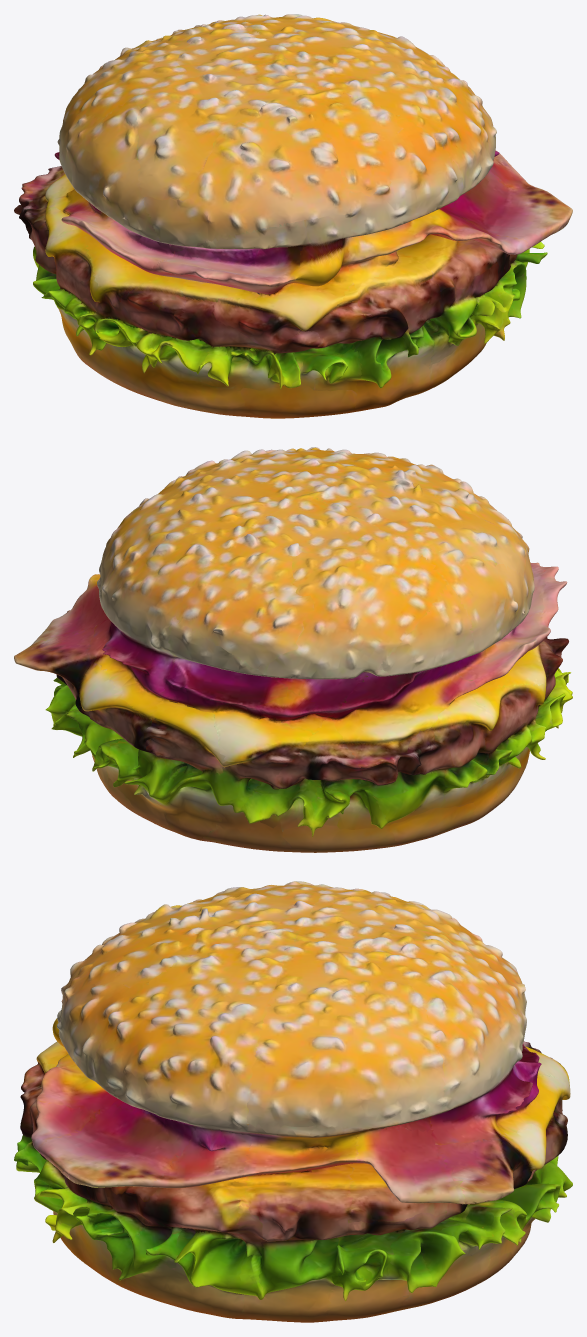
Rendered from hero-burger.glb.
3 renders of one model, top to bottom at view 1: azimuth 30°, elevation 25°; view 2: azimuth 150°, elevation 25°; view 3: azimuth 270°, elevation 25°, orthographic. The views are drawn at different scales.
Parts seen in each view (by area): view 1: mesh_node; view 2: mesh_node; view 3: mesh_node.
Boxes of the visible parts, x1,y1,x2,y2 form: mesh_node: [14, 14, 572, 418]; mesh_node: [14, 447, 572, 852]; mesh_node: [14, 881, 572, 1322].
Size of the model in its own units: 1.89 by 1.16 by 1.89.
Materials: 1 (1 with a texture image).
